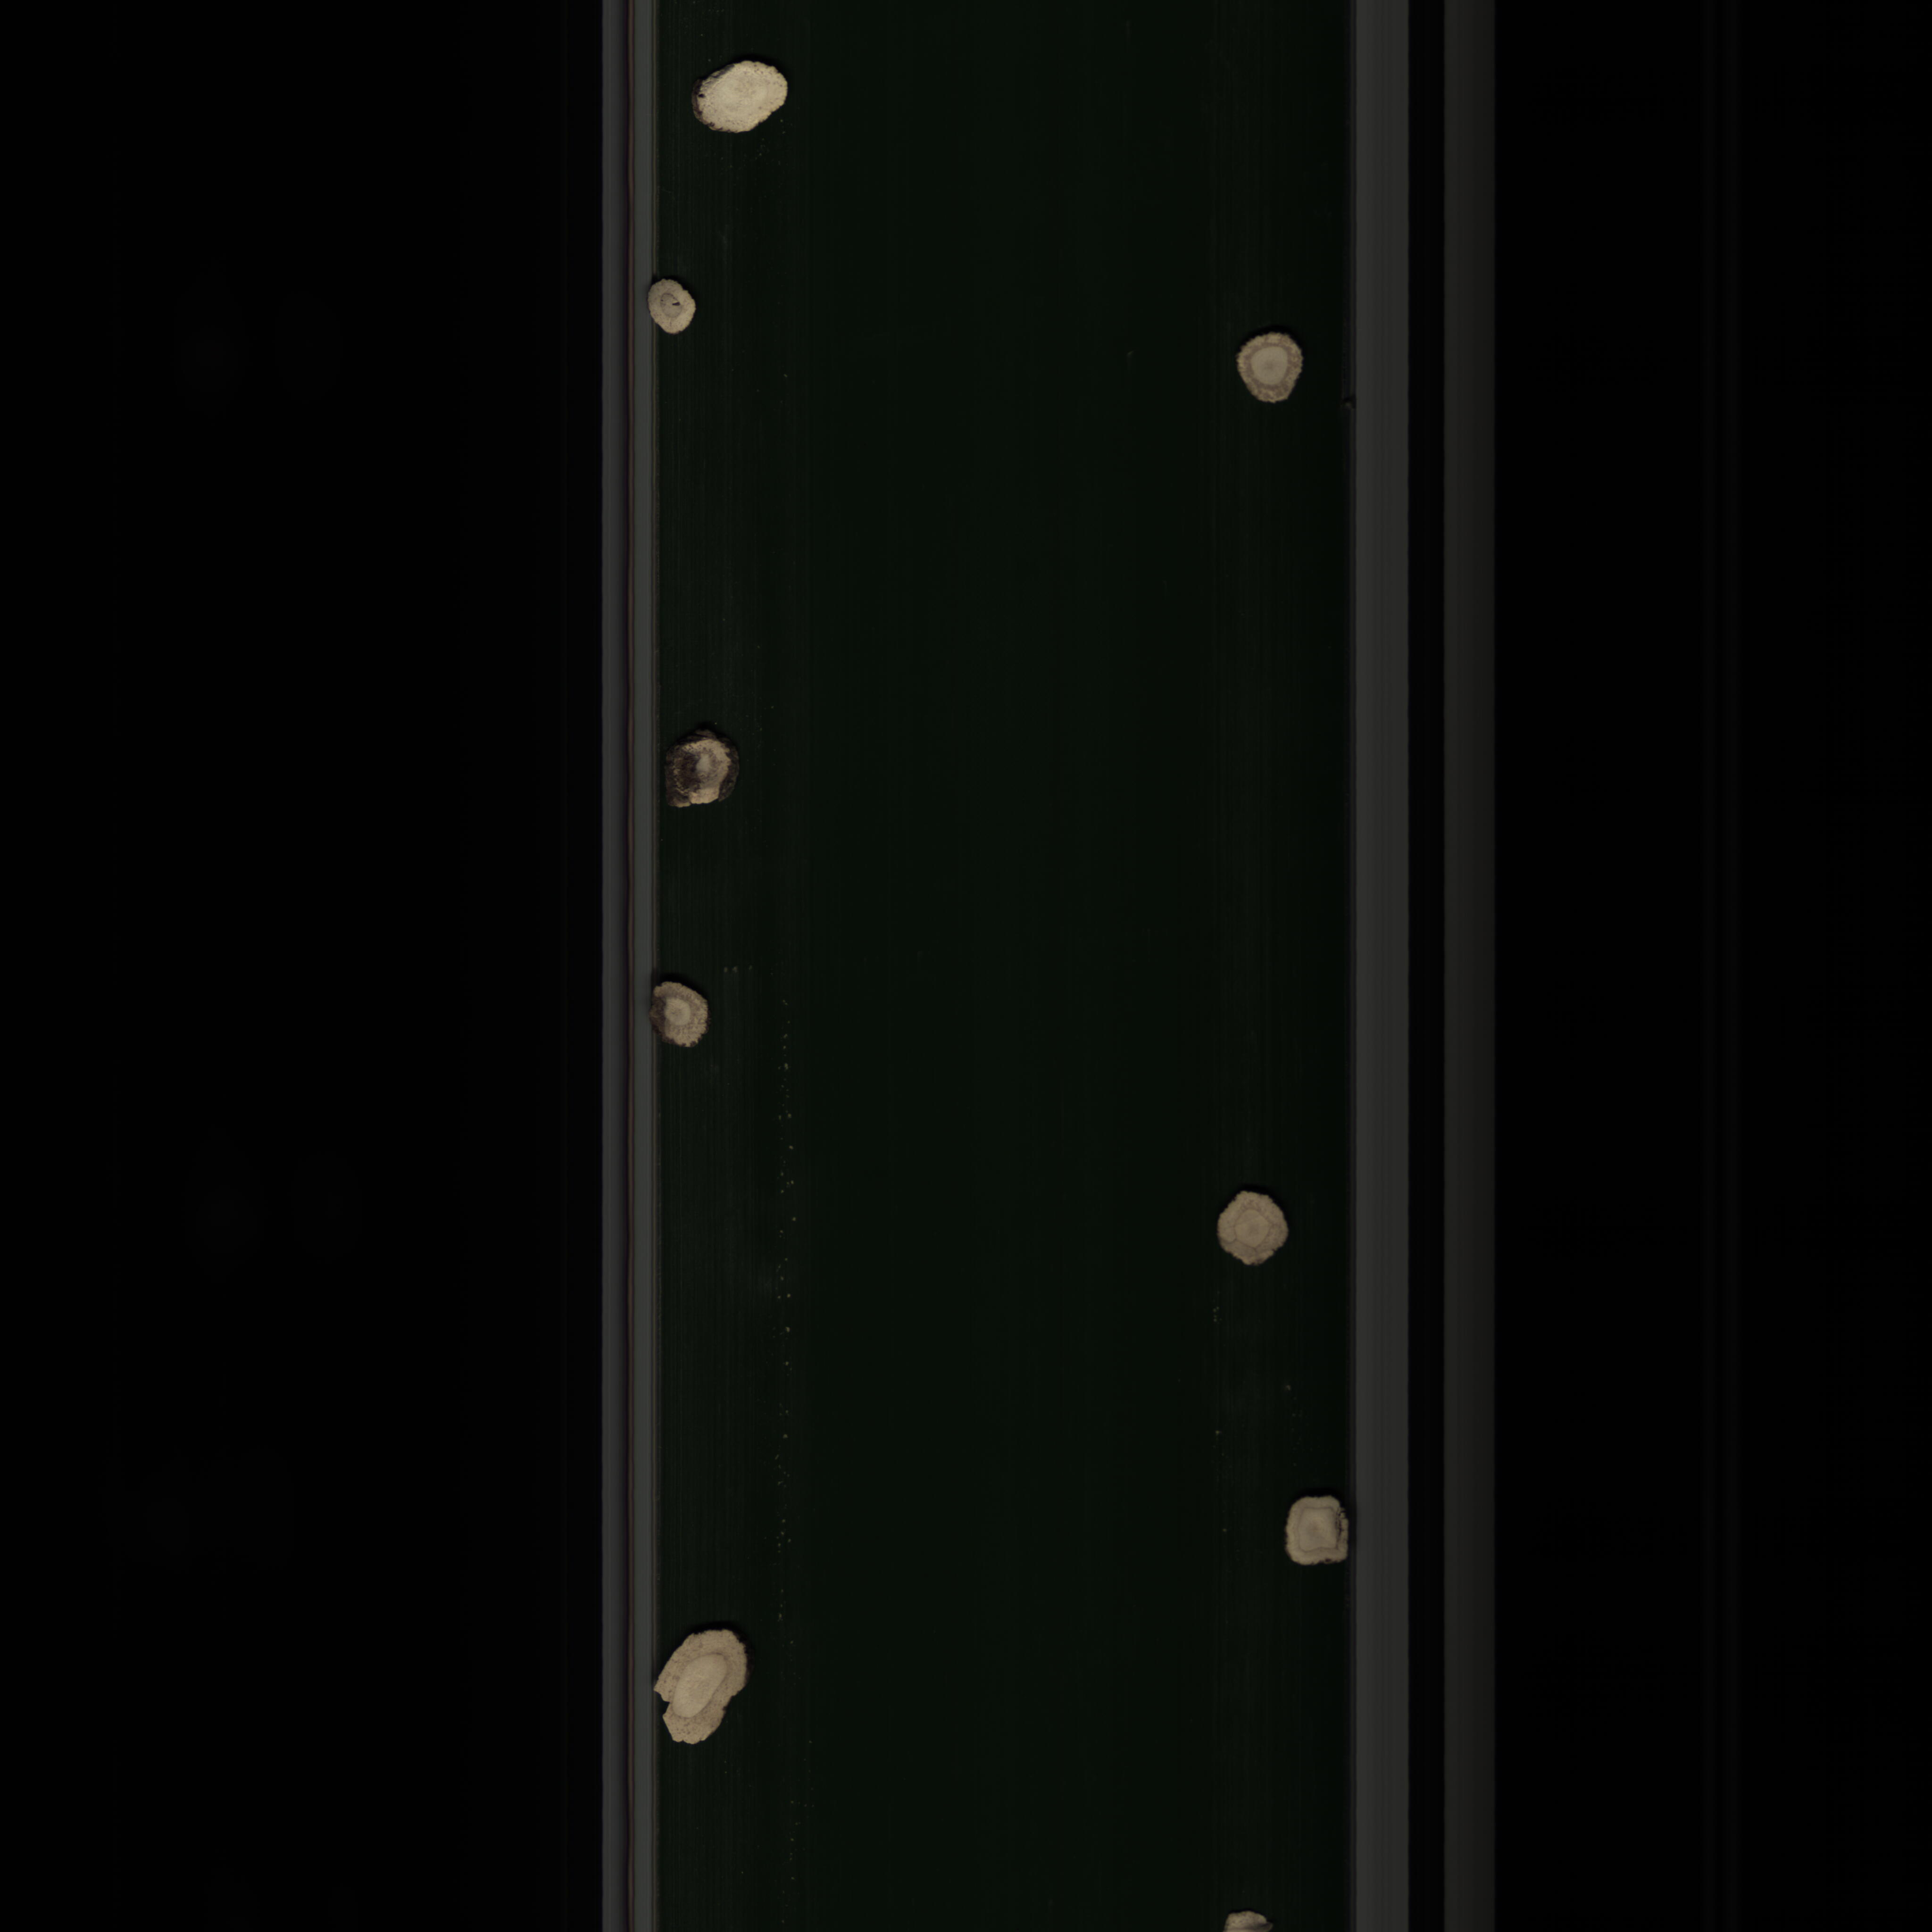debris: (656, 1610, 752, 1766)
hole: (637, 274, 704, 343)
moldy: (662, 725, 750, 826), (635, 977, 718, 1060)
